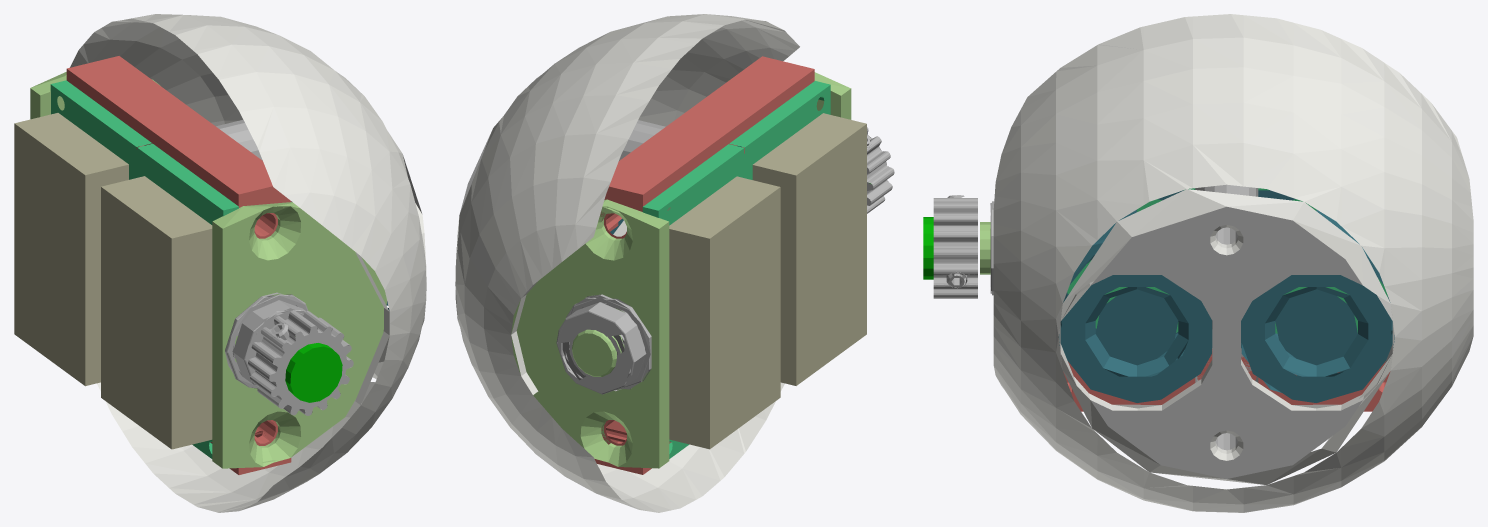
Rendered from EyeR_2_joint_visu.dae.
The picture shows the model from 3 angles, left to right: view 1: azimuth 30°, elevation 25°; view 2: azimuth 150°, elevation 25°; view 3: azimuth 270°, elevation 25°; orthographic projection. The views are drawn at different scales.
Parts seen in each view (by area): view 1: Visualization_EyeR2; view 2: Visualization_EyeR2; view 3: Visualization_EyeR2.
Boxes of the visible parts, <box> form: Visualization_EyeR2: <box>14,14,426,512</box>; Visualization_EyeR2: <box>455,14,894,512</box>; Visualization_EyeR2: <box>923,14,1473,512</box>.
Size of the model in its own units: 0.0301 by 0.0524 by 0.05.
